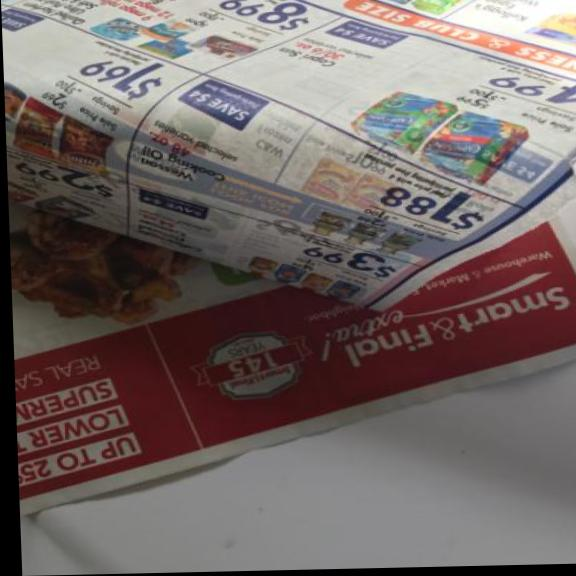Kertas: (0, 0, 576, 518)
